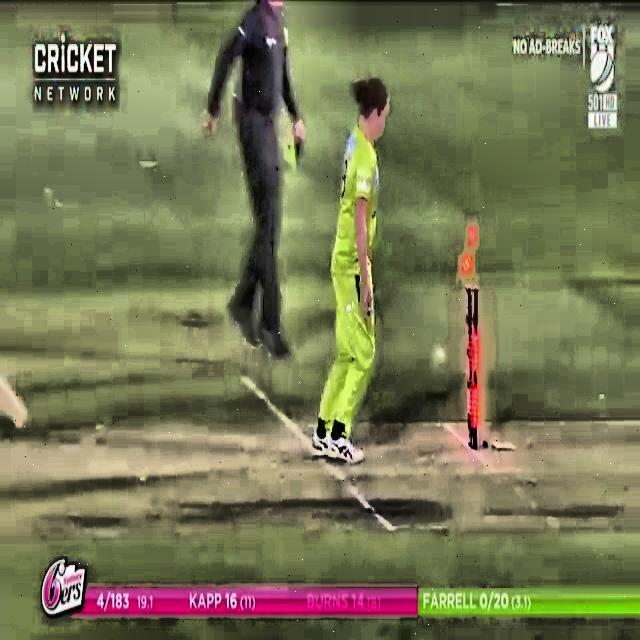Ball: (424, 343, 451, 373)
Dis_Wicket: (454, 225, 491, 453)
Pitch_Line: (238, 374, 324, 460), (320, 456, 395, 535)
